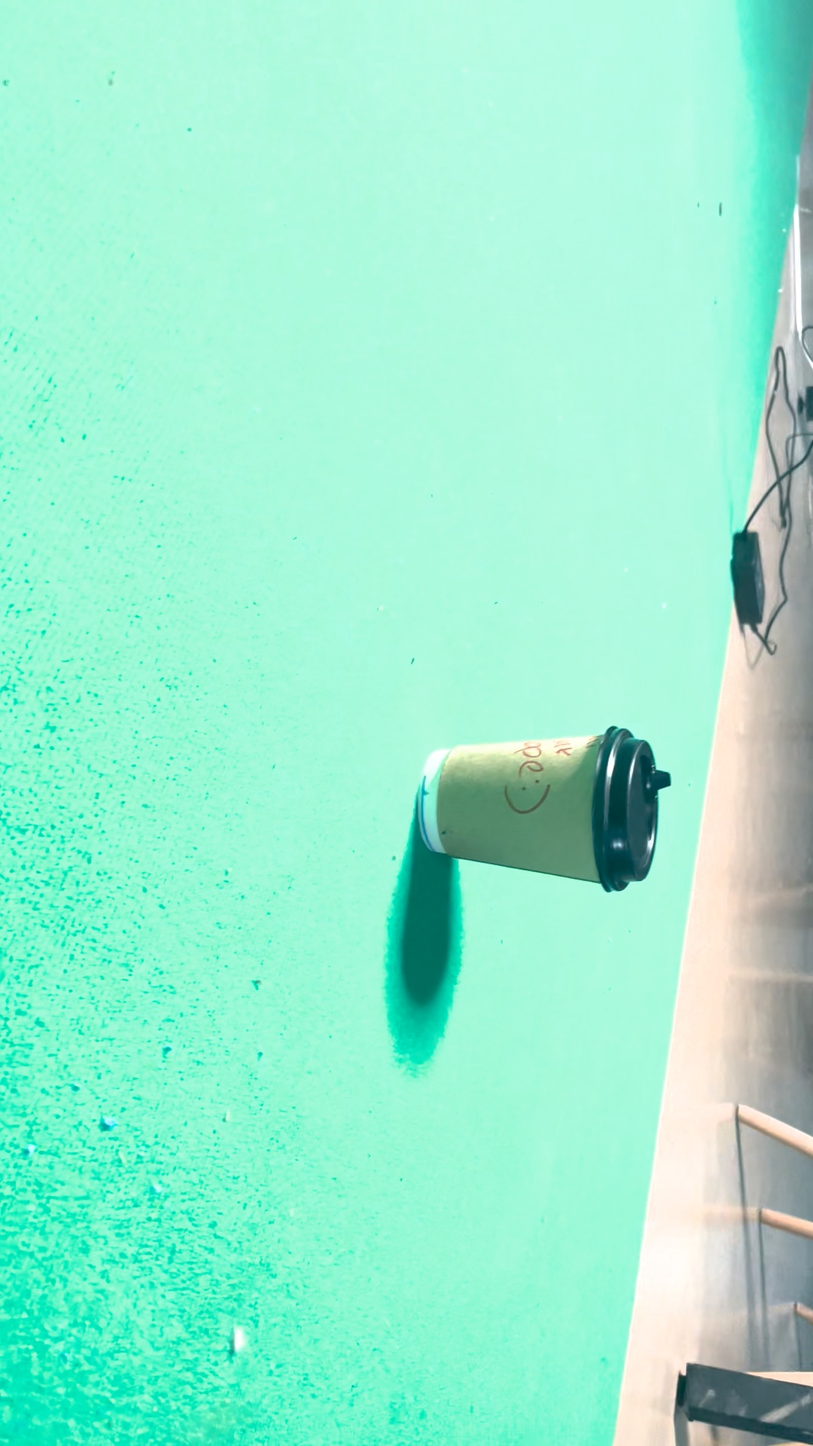cup: (420, 375, 506, 797)
